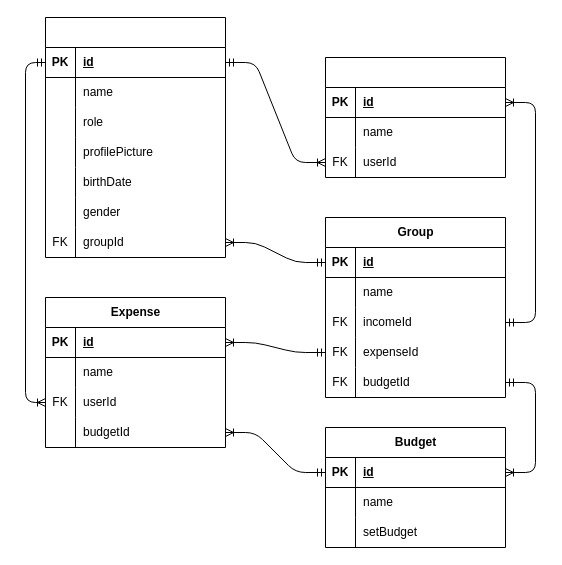
The diagram is 562 pixels wide and 565 high, and some of its shapes have lost their labels. Each missing label, with the box of its shape:
Income: (324, 56, 506, 178)
User: (44, 16, 226, 258)
